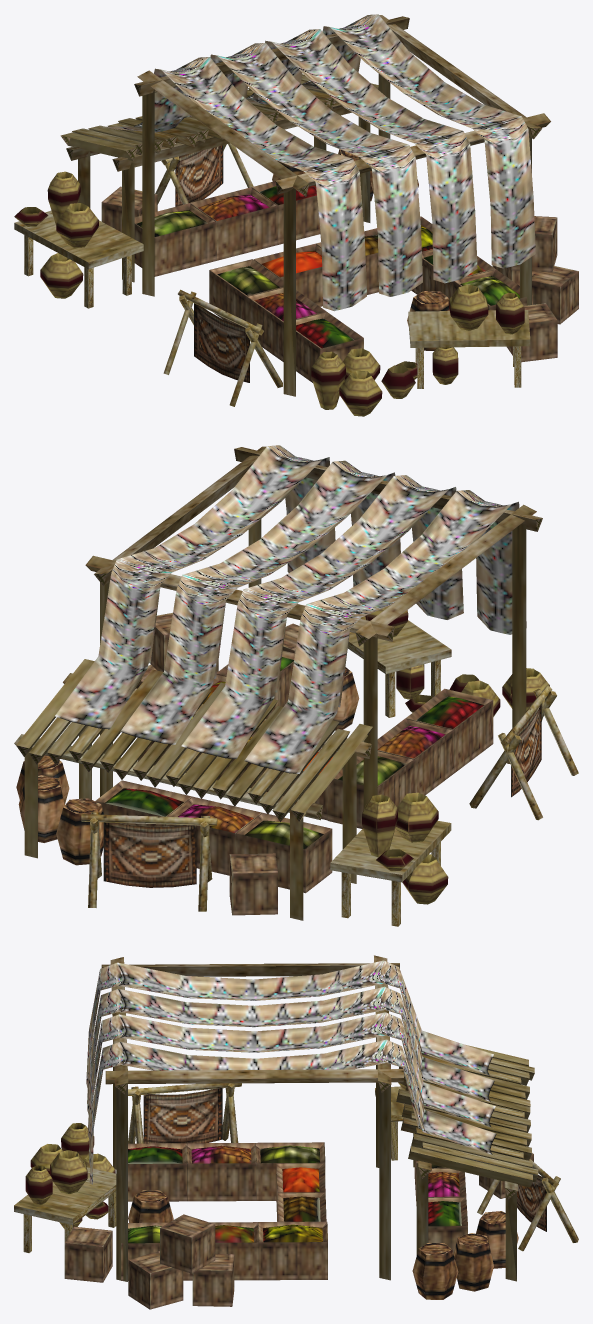
File: iber_market.glb
3 views of the same model, one above another, from view 1: azimuth 30°, elevation 25°; view 2: azimuth 150°, elevation 25°; view 3: azimuth 270°, elevation 25° (orthographic). The views are drawn at different scales.
Parts seen in each view (by area): view 1: iber_market_part0, iber_market_part1; view 2: iber_market_part0, iber_market_part1; view 3: iber_market_part0, iber_market_part1.
Part boxes in pixels (<box>): iber_market_part0: <box>60,14,550,396</box>; iber_market_part1: <box>14,143,578,416</box>; iber_market_part0: <box>14,445,542,920</box>; iber_market_part1: <box>16,606,578,926</box>; iber_market_part0: <box>86,955,538,1281</box>; iber_market_part1: <box>14,1082,578,1309</box>.
Size of the model in its own units: 3.21 by 1.77 by 4.2.
1 material, 1 textured.
